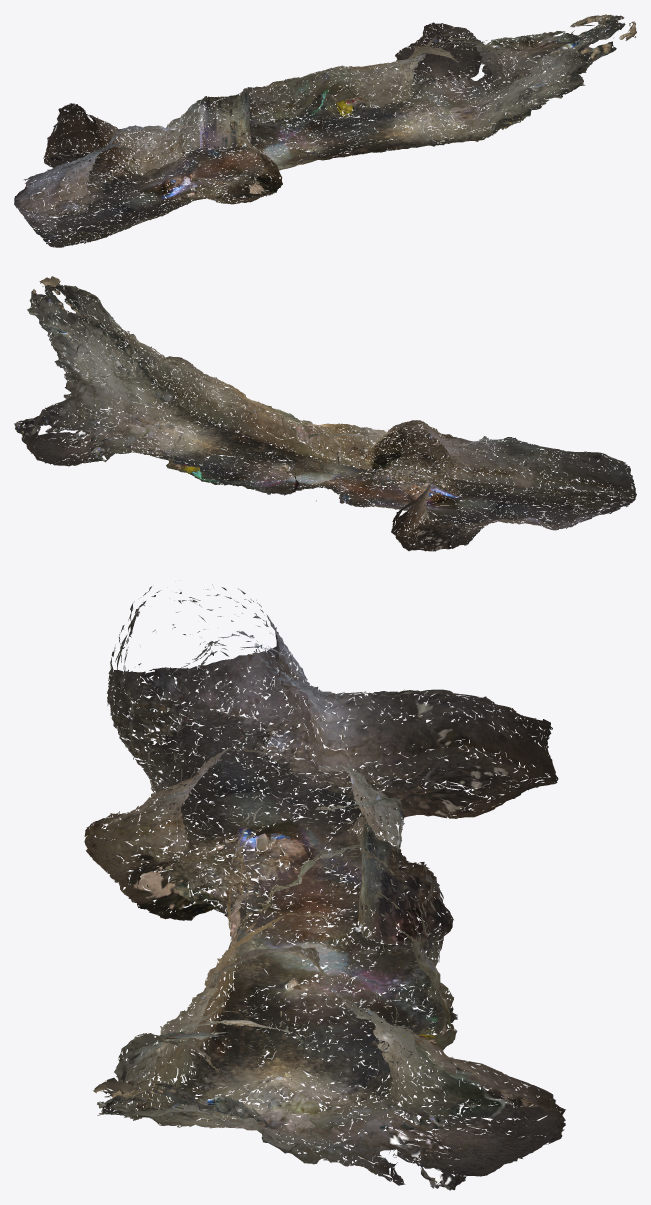
File: carriere_orleans_1_optimized.glb
3 renders of one model, top to bottom at view 1: azimuth 30°, elevation 25°; view 2: azimuth 150°, elevation 25°; view 3: azimuth 270°, elevation 25°, orthographic. The views are drawn at different scales.
Parts seen in each view (by area): view 1: Object_4, Object_5, Object_2, Object_3, Object_6, Object_7; view 2: Object_4, Object_5, Object_3, Object_2, Object_6, Object_7; view 3: Object_4, Object_5, Object_3, Object_2, Object_6, Object_7.
Part boxes in pixels (box(x1,y1,x2,y2)): Object_4: box(24, 44, 520, 242); Object_5: box(17, 21, 636, 247); Object_2: box(29, 14, 625, 247); Object_3: box(14, 23, 574, 242); Object_6: box(24, 23, 608, 197); Object_7: box(61, 17, 620, 181); Object_4: box(14, 378, 625, 550); Object_5: box(30, 276, 629, 536); Object_3: box(14, 337, 636, 551); Object_2: box(17, 285, 636, 530); Object_6: box(37, 304, 629, 528); Object_7: box(27, 285, 600, 462); Object_4: box(84, 660, 565, 1190); Object_5: box(93, 672, 551, 1185); Object_3: box(88, 602, 565, 1183); Object_2: box(84, 584, 561, 1188); Object_6: box(97, 586, 555, 1129); Object_7: box(112, 592, 382, 1117).
Bounding box in the file's own units: 24.81 × 3.78 × 8.8.
Materials: 1 (1 with a texture image).
